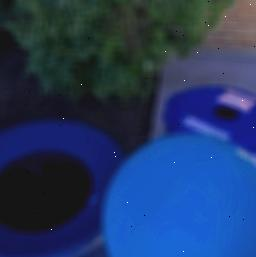algae: (99, 133, 256, 257)
